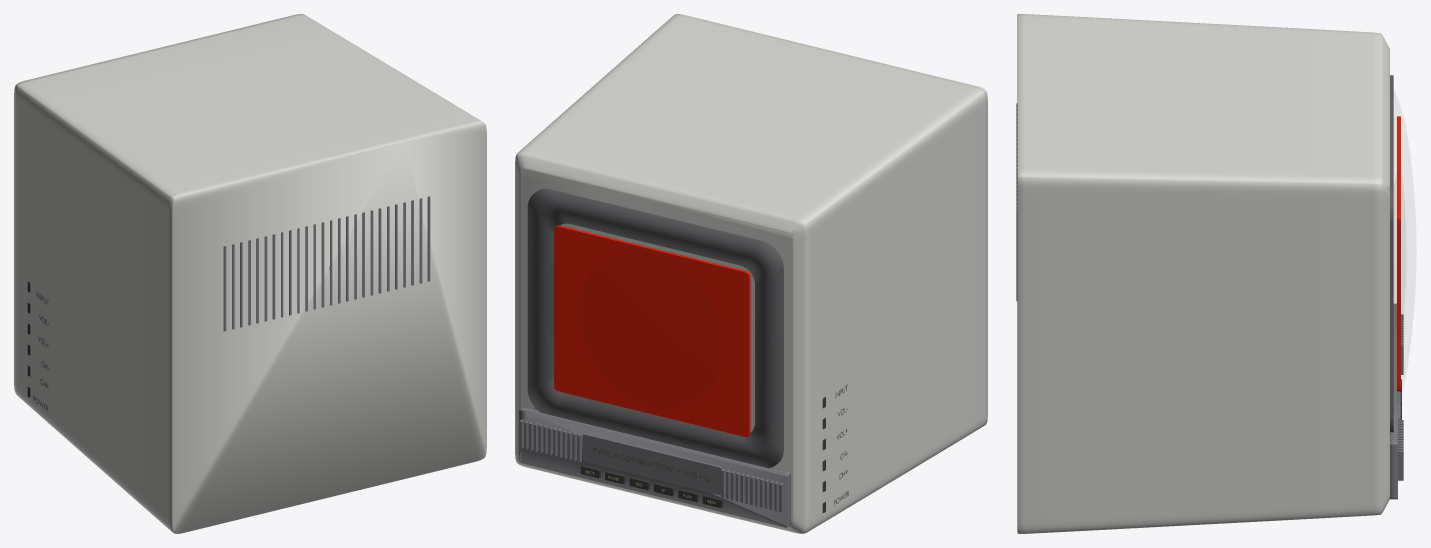
File: VHSTV.fbx
3 views of the same model, side by side, from view 1: azimuth 30°, elevation 25°; view 2: azimuth 150°, elevation 25°; view 3: azimuth 270°, elevation 25° (orthographic). The views are drawn at different scales.
Parts seen in each view (by area): view 1: Body; view 2: Body, Mask, Bezel, Chin, VCR_Handle; view 3: Body, Bezel, Mask, Chin, CRT_Glass.
Part boxes in pixels (x1,y1,x2,y2): Body: [14, 14, 486, 533]; Body: [515, 14, 987, 533]; Mask: [554, 225, 750, 436]; Bezel: [527, 188, 783, 468]; Chin: [518, 407, 791, 527]; VCR_Handle: [582, 433, 722, 495]; Body: [1017, 14, 1389, 533]; Bezel: [1390, 75, 1393, 432]; Mask: [1397, 116, 1400, 391]; Chin: [1389, 303, 1397, 499]; CRT_Glass: [1394, 166, 1405, 336].
Size of the model in its own units: 40.84 by 41.9 by 41.99.
